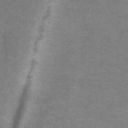finishing roll printing: (58, 38, 100, 128), (96, 14, 104, 22), (94, 24, 100, 30)
